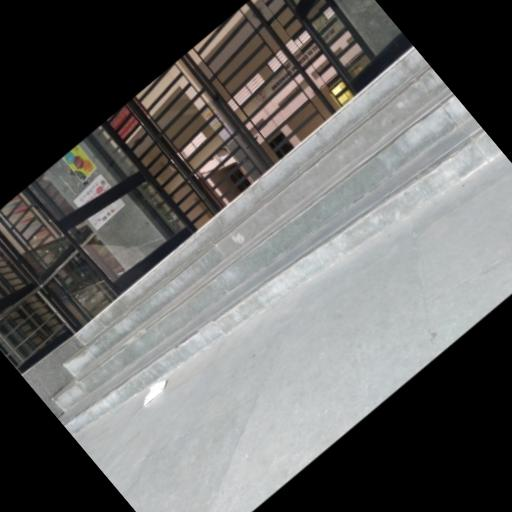stairs: (54, 47, 501, 434)
